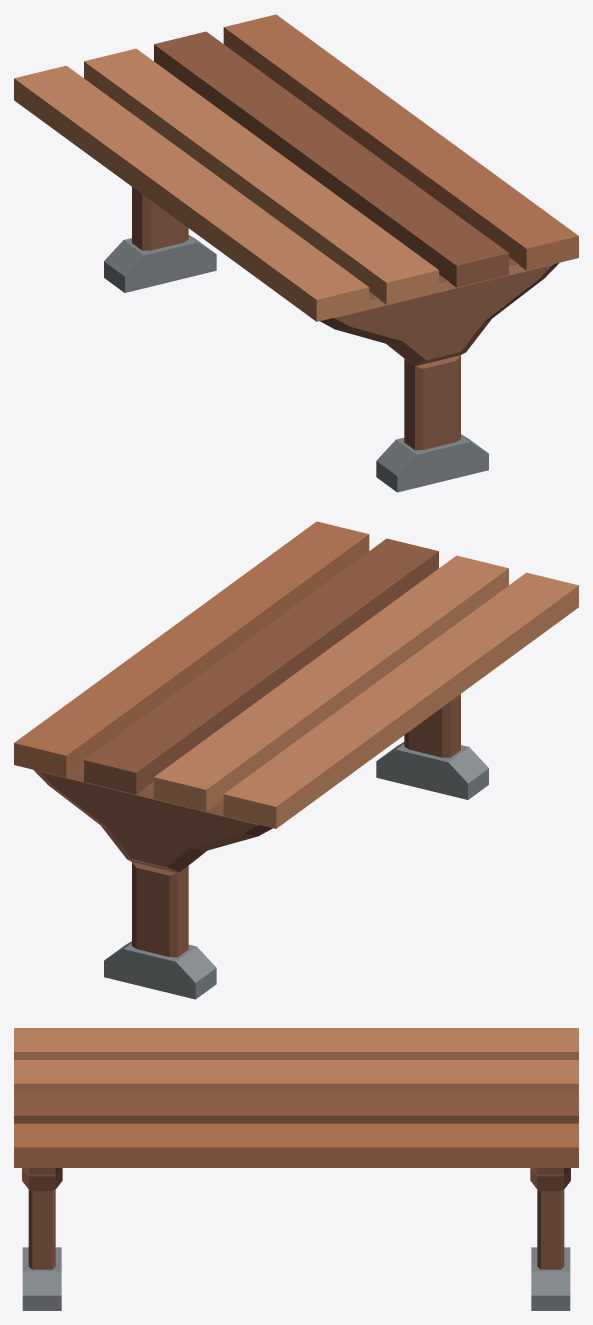
Rendered from Banc.glb.
The picture shows the model from 3 angles, top to bottom: view 1: azimuth 30°, elevation 25°; view 2: azimuth 150°, elevation 25°; view 3: azimuth 270°, elevation 25°; orthographic projection. The views are drawn at different scales.
Parts seen in each view (by area): view 1: Cube.007; view 2: Cube.007; view 3: Cube.007.
Boxes of the visible parts, x1,y1,x2,y2 form: Cube.007: [14, 14, 578, 492]; Cube.007: [14, 521, 578, 999]; Cube.007: [14, 1028, 578, 1310].
Size of the model in its own units: 1 by 0.79 by 2.
